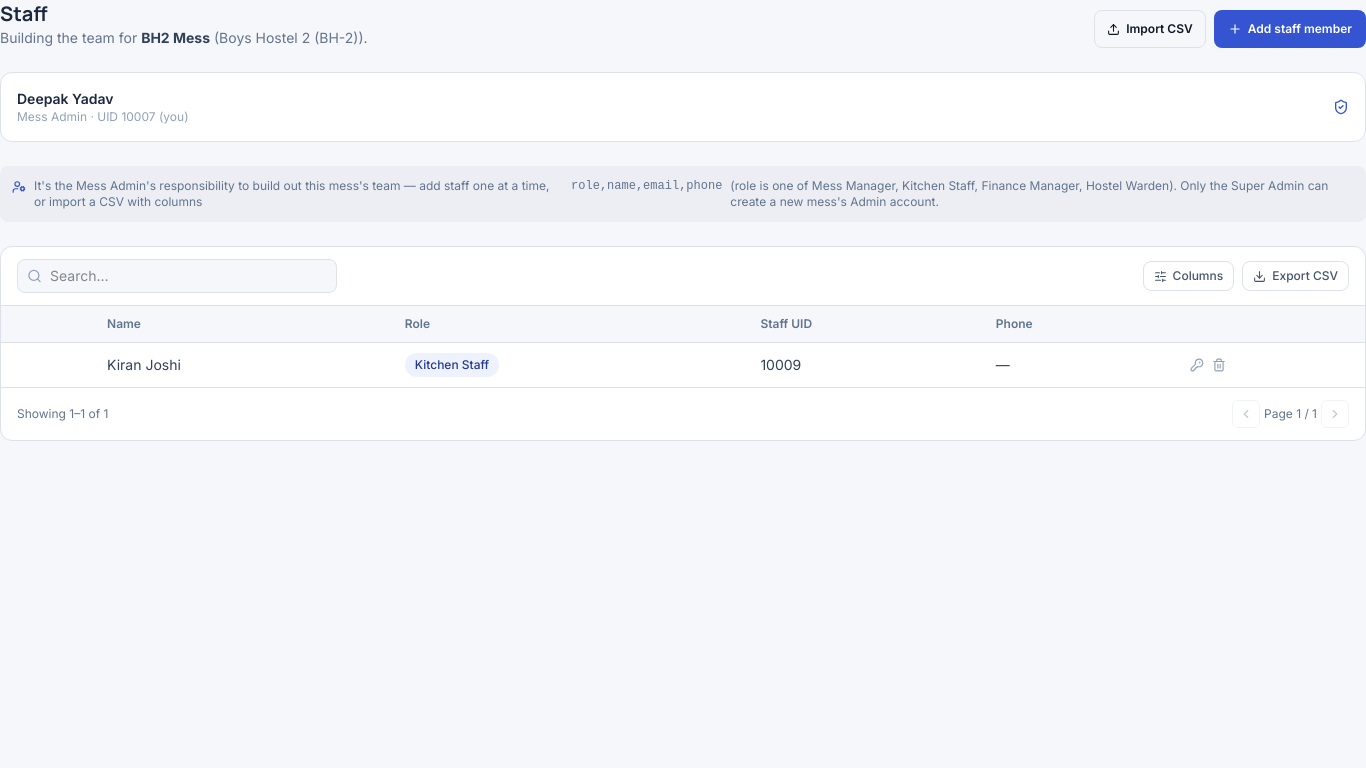
Test: Staff — credentials are actually shown › shows the server's reason if a reset is refused
Expected: the text "Kiran Joshi" is shown, x1=91 y1=342 x2=389 y2=387
Click the button named "reset password for kiran joshi".
click(1197, 365)  # box x1=1190 y1=358 x2=1204 y2=372
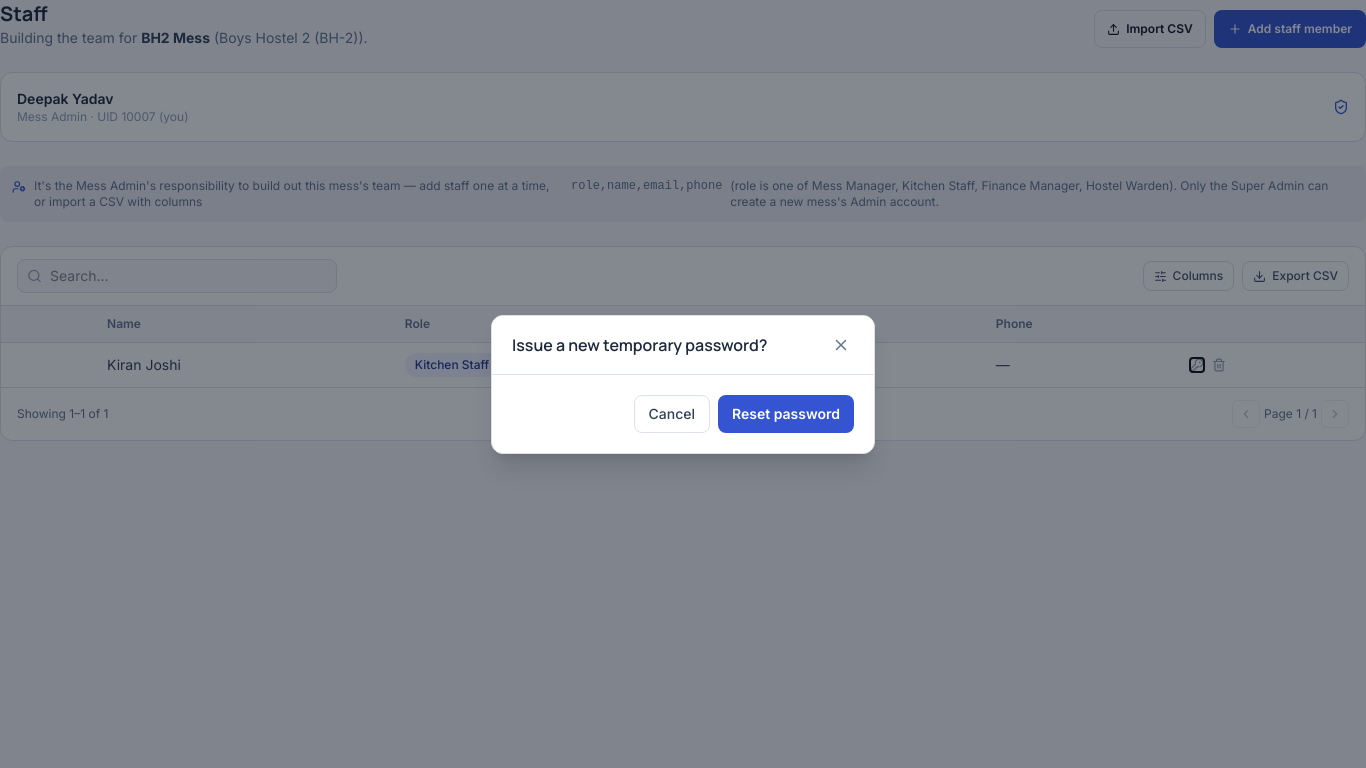
Click the button "Reset password".
click(786, 414)  # box x1=718 y1=394 x2=854 y2=432
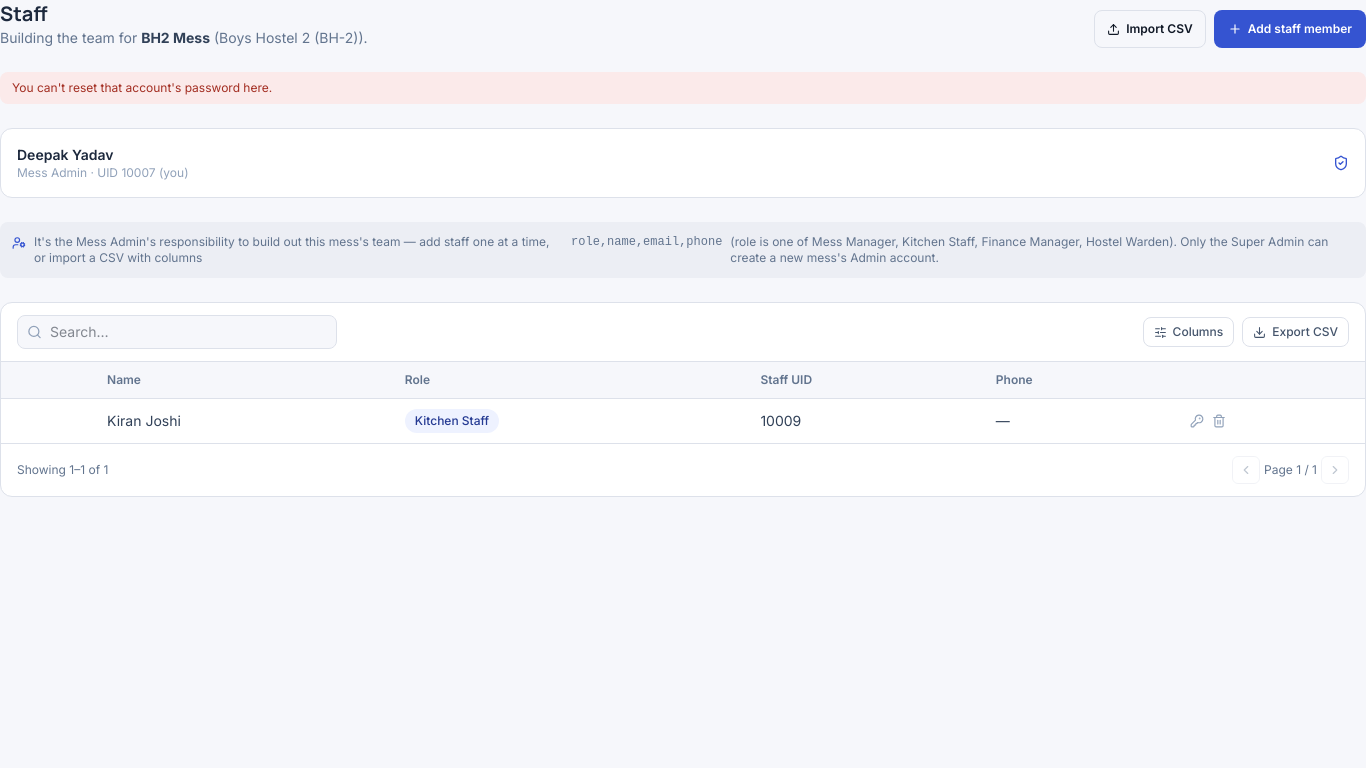
Expected: the message shows "can't reset that account", x1=12 y1=80 x2=272 y2=95
